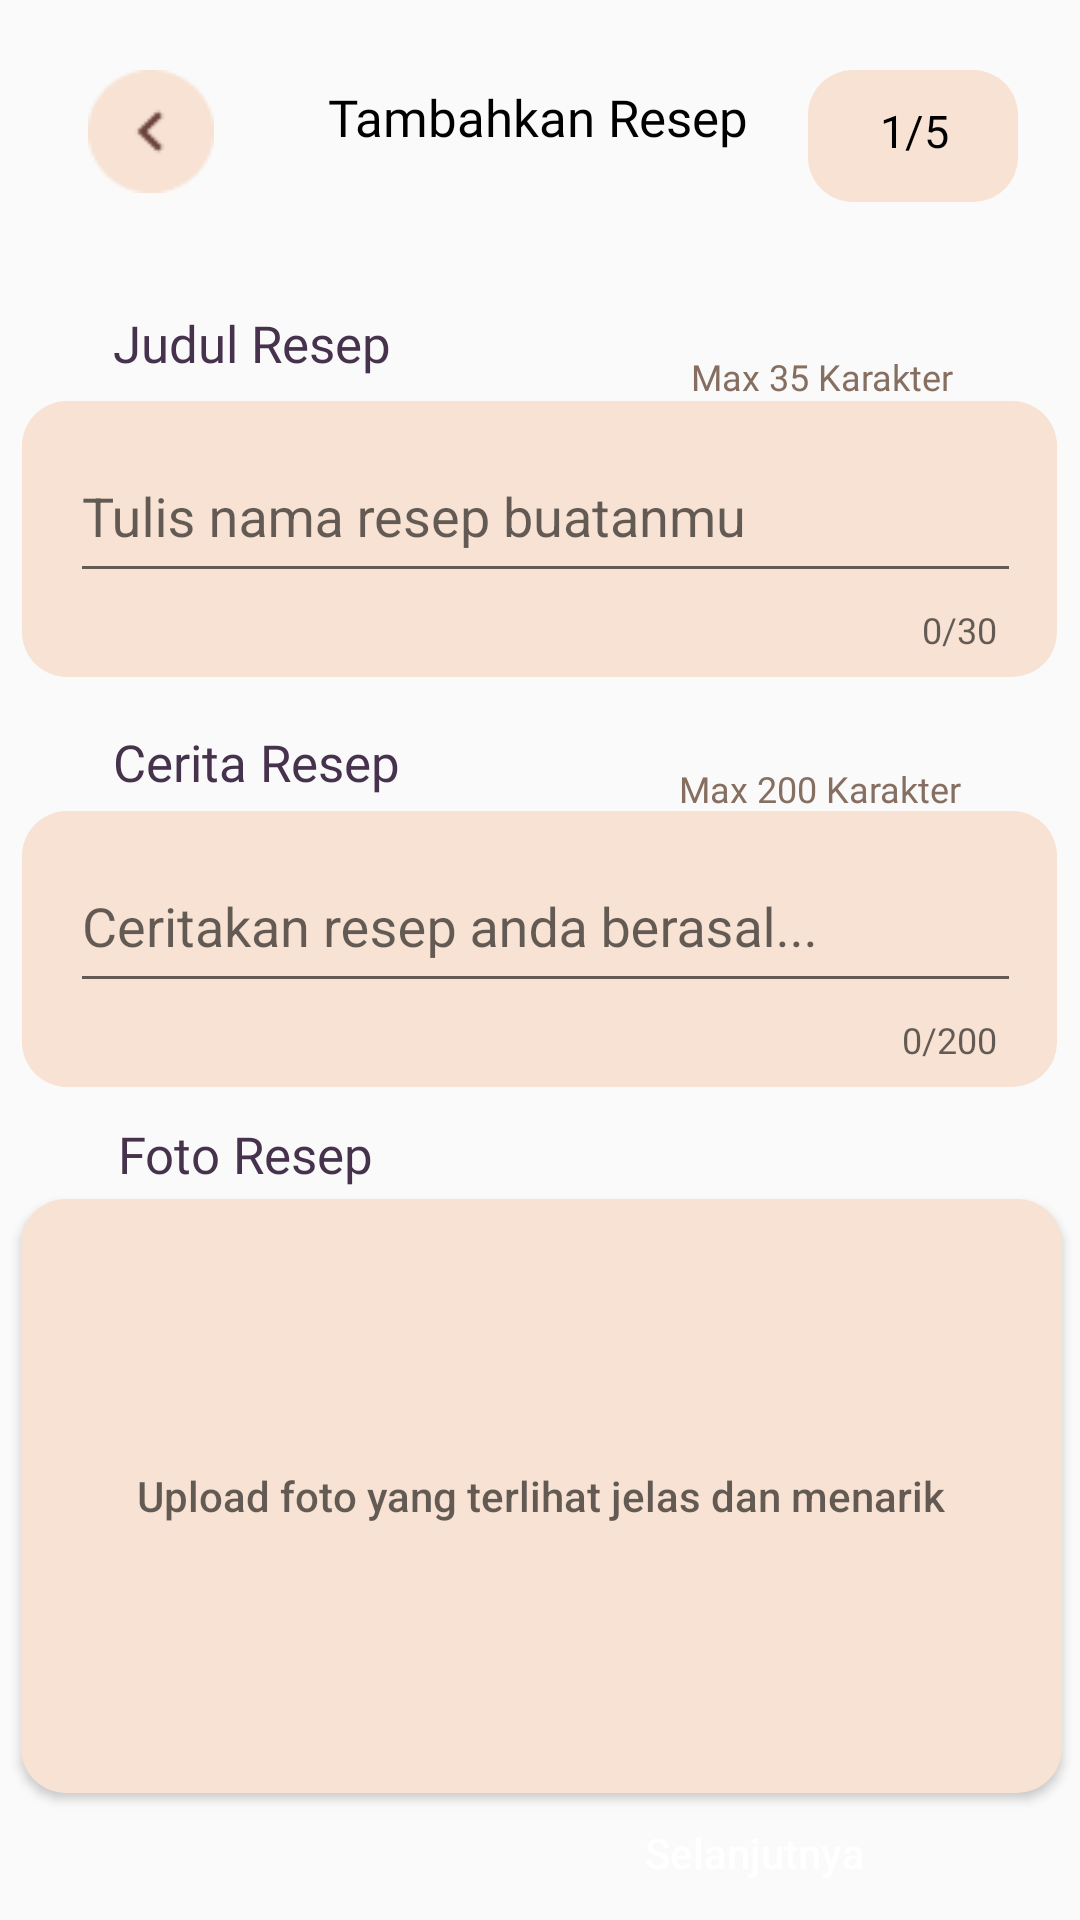

Where icons sit on this 1080w x 1920h app screen, as (x1,y1,x2,y2):
back: (88,70,214,193)
